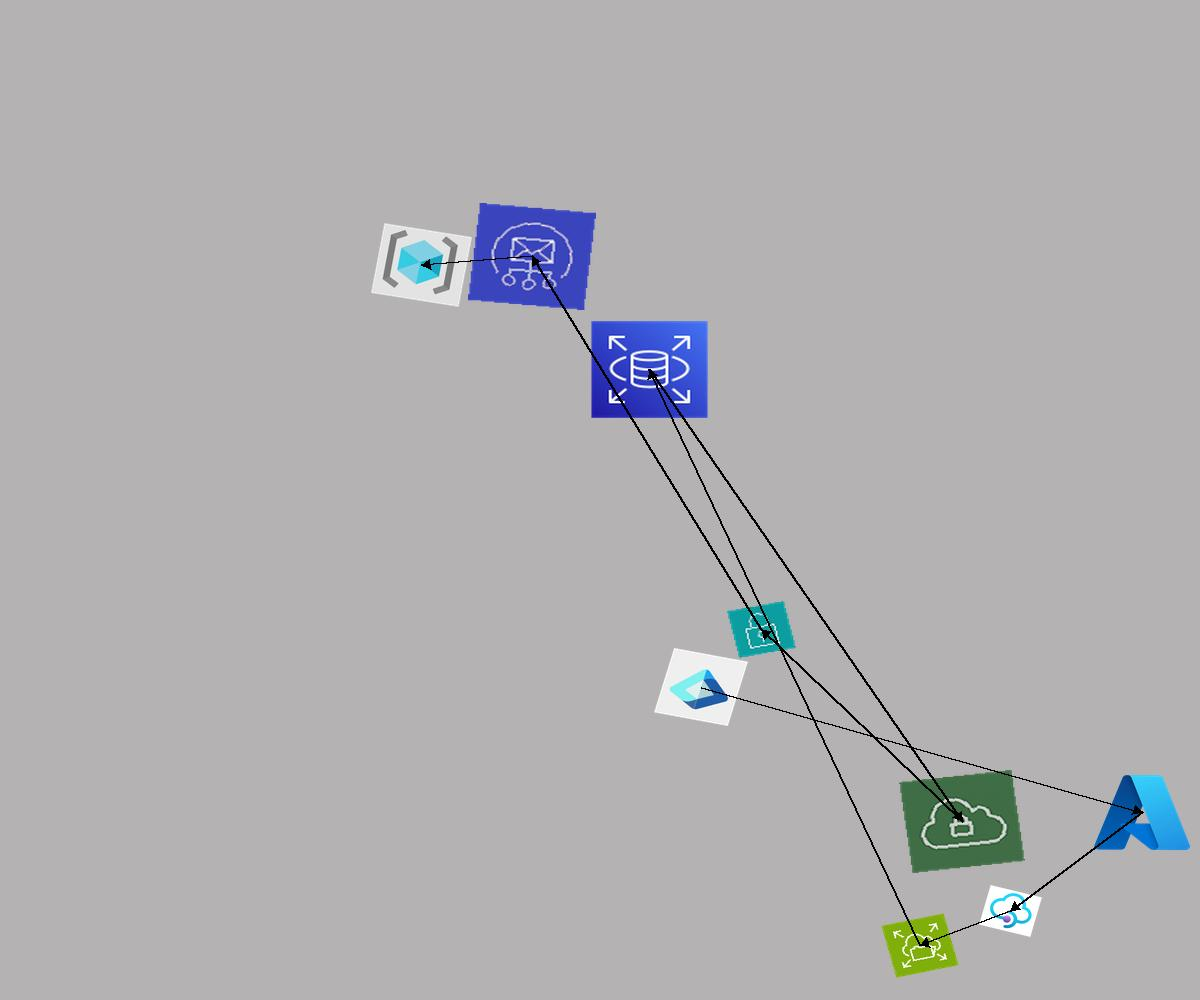AWS-EFS: (881, 913, 959, 978)
AWS-Private-subnet: (727, 601, 796, 658)
AWS-Private_vpc: (899, 769, 1025, 874)
AWS-RDS: (590, 320, 709, 419)
AWS-Simple-Email-Service: (468, 203, 596, 310)
Azure_api_gateway: (979, 885, 1042, 937)
Azure_microsoft_entra: (654, 648, 748, 726)
Azure_resource_group: (371, 223, 472, 307)
Azure_services: (1090, 769, 1195, 856)
